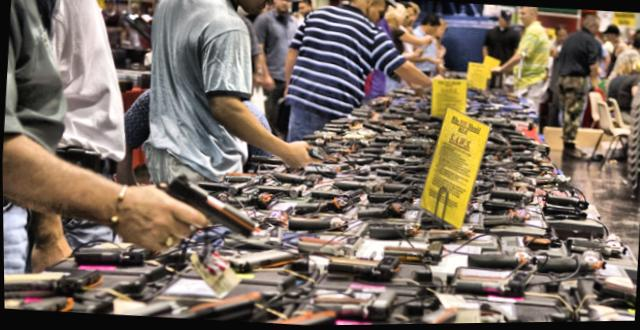pistol: (122, 160, 259, 254)
